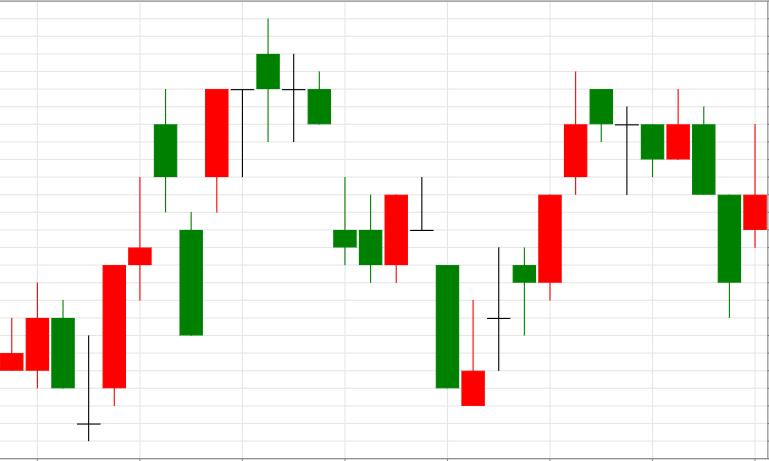bullish_engulfing_rise: (257, 17, 408, 283)
inverse_hammer_rise: (256, 18, 485, 406)
